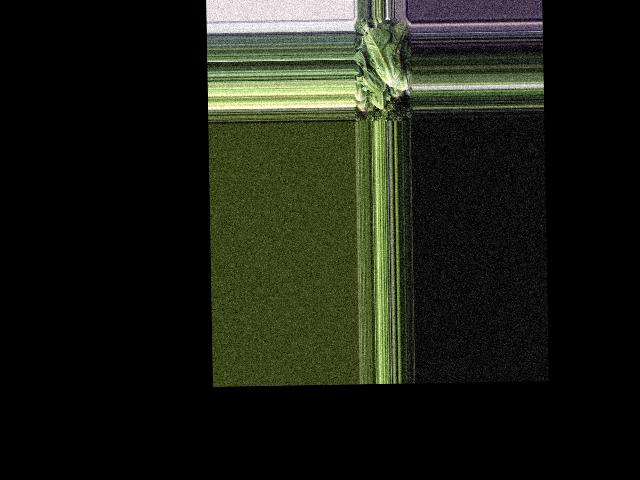lettuce: (355, 48, 385, 95)
